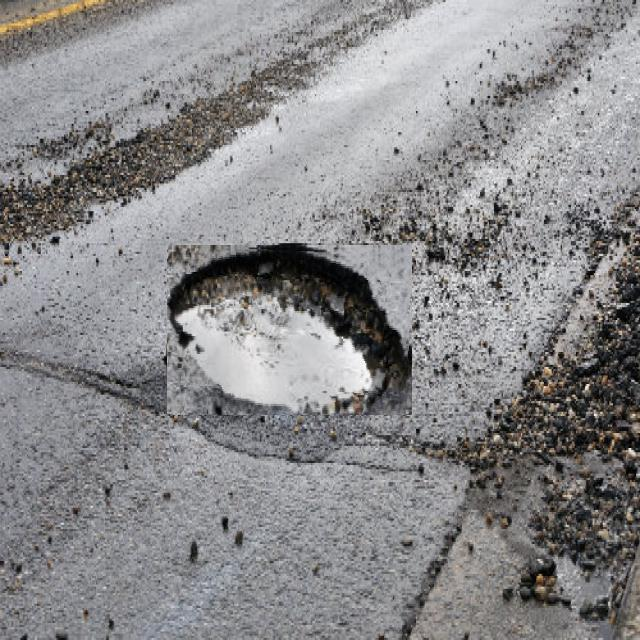Pothole: (167, 245, 412, 415)
